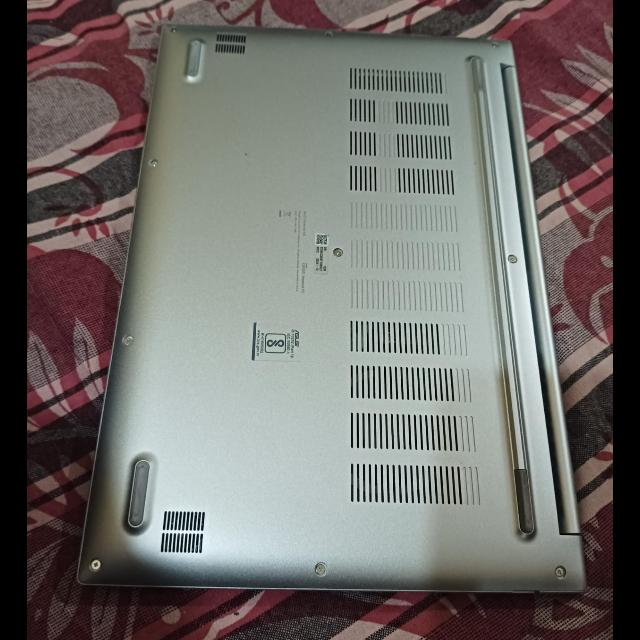laptop: (72, 5, 600, 603)
